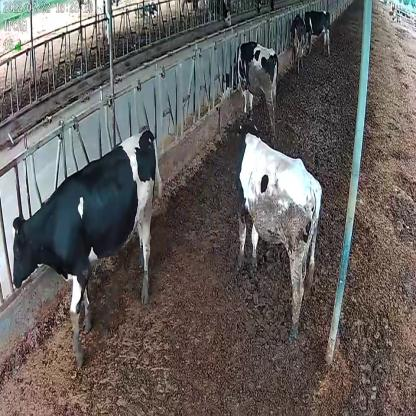cow: (11, 127, 163, 364), (234, 120, 322, 331), (221, 42, 280, 143), (291, 14, 306, 72)
